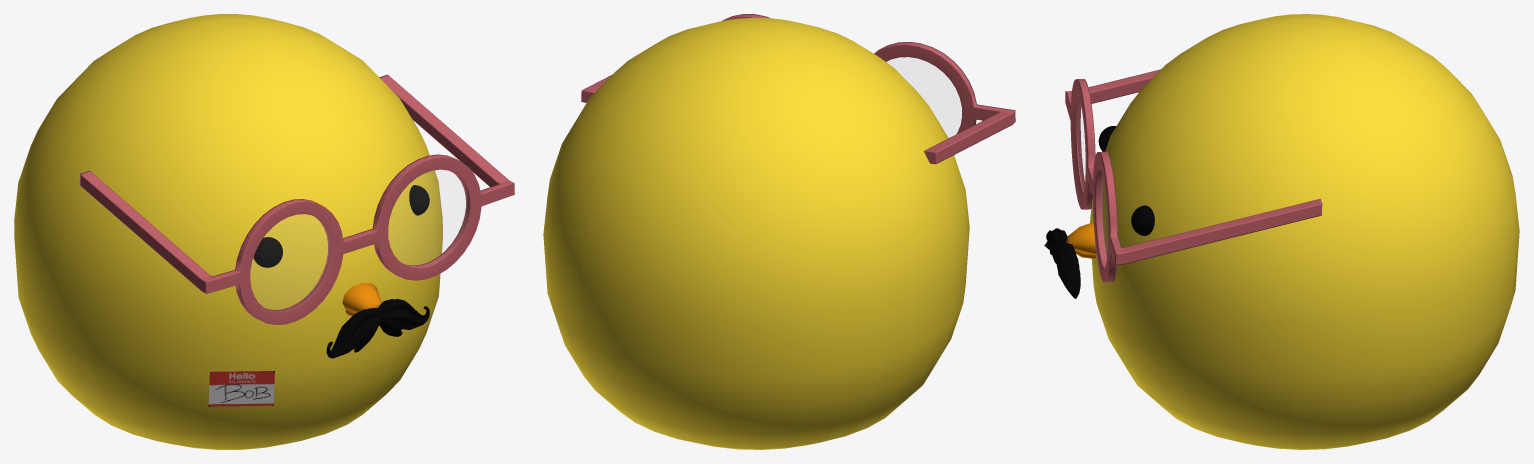
The model's file is Disguised Chick.fbx.
3 views of the same model, side by side, from view 1: azimuth 30°, elevation 25°; view 2: azimuth 150°, elevation 25°; view 3: azimuth 270°, elevation 25° (orthographic).
Parts seen in each view (by area): view 1: Chick1, glasses._base, Sphere.001, Bob Name Tag, ChickEyes1, ChickBeak1; view 2: Chick1, glasses._base; view 3: Chick1, glasses._base, Sphere.001, ChickEyes1, ChickBeak1.
Part boxes in pixels (left/top/right/bottom): Chick1: left=14, top=14, right=442, bottom=449; glasses._base: left=79, top=74, right=514, bottom=324; Sphere.001: left=326, top=298, right=429, bottom=358; Bob Name Tag: left=208, top=371, right=274, bottom=406; ChickEyes1: left=253, top=185, right=429, bottom=267; ChickBeak1: left=342, top=282, right=381, bottom=316; Chick1: left=543, top=17, right=969, bottom=449; glasses._base: left=581, top=14, right=1015, bottom=164; Chick1: left=1090, top=14, right=1519, bottom=449; glasses._base: left=1065, top=69, right=1322, bottom=282; Sphere.001: left=1044, top=228, right=1080, bottom=298; ChickEyes1: left=1098, top=126, right=1154, bottom=235; ChickBeak1: left=1066, top=222, right=1096, bottom=258.
Size of the model in its own units: 21.37 by 20.75 by 23.31.
Materials: 7 (1 with a texture image).
